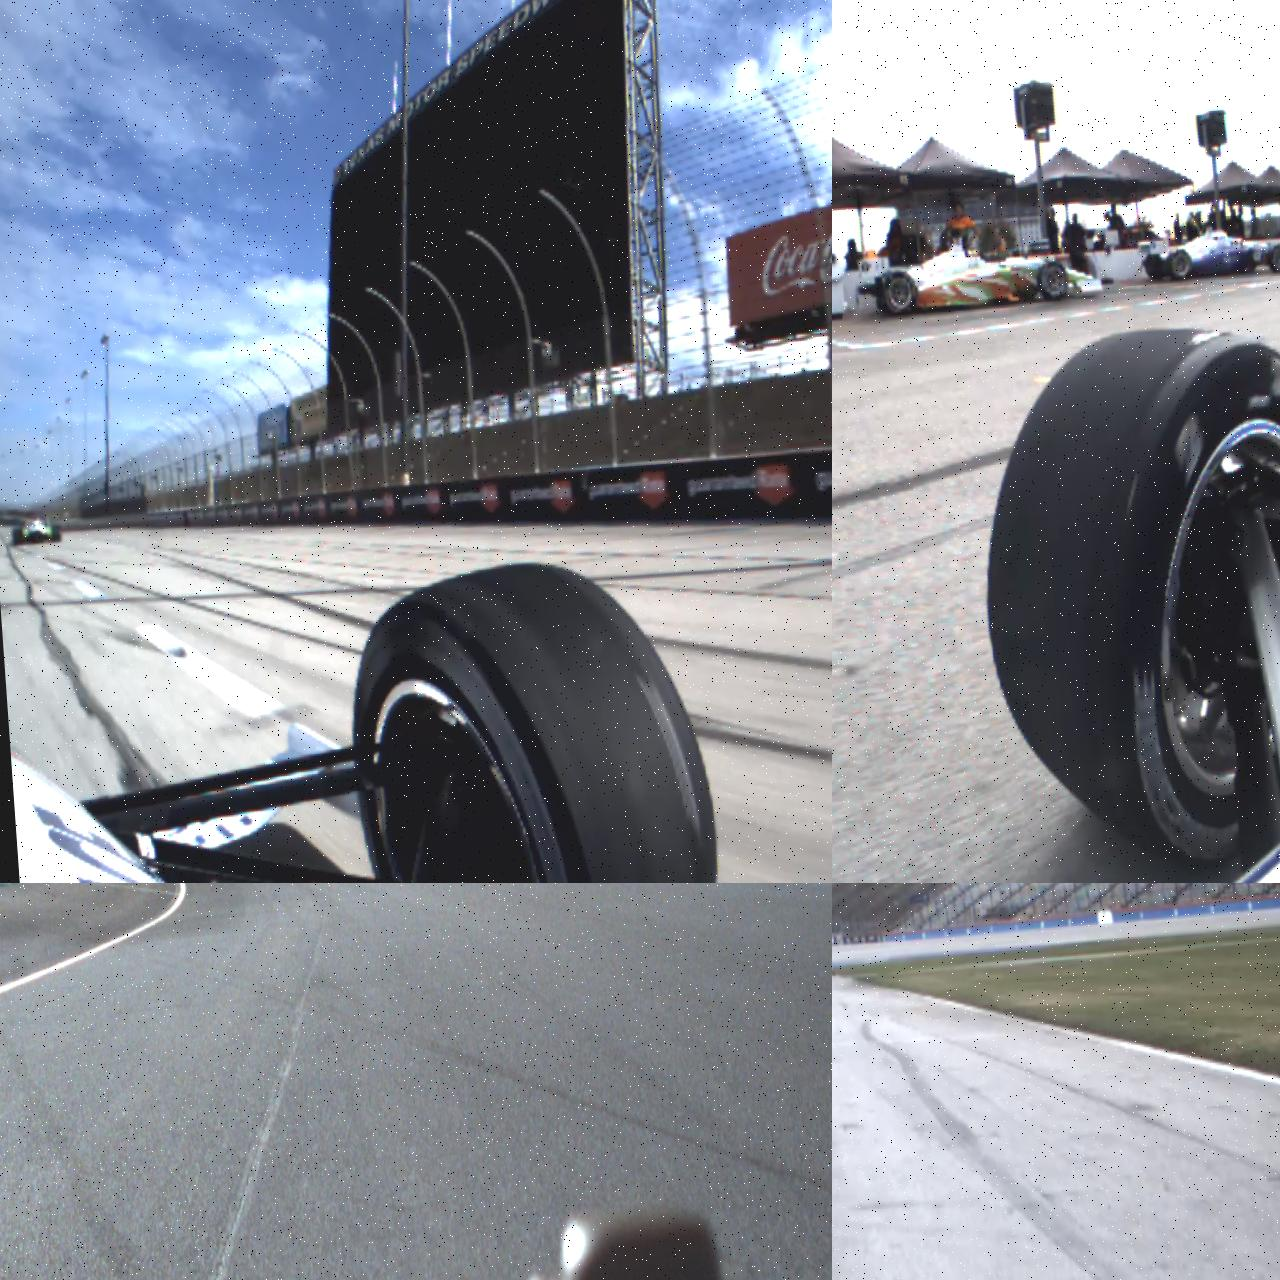AV: (856, 217, 1104, 324), (1141, 213, 1280, 284), (11, 511, 61, 546)
Wheel: (969, 318, 1280, 883), (347, 550, 733, 883), (876, 271, 919, 320), (1037, 259, 1069, 302), (1167, 248, 1193, 282), (1143, 252, 1163, 285), (1268, 243, 1280, 275), (13, 527, 23, 546), (52, 524, 61, 543)
